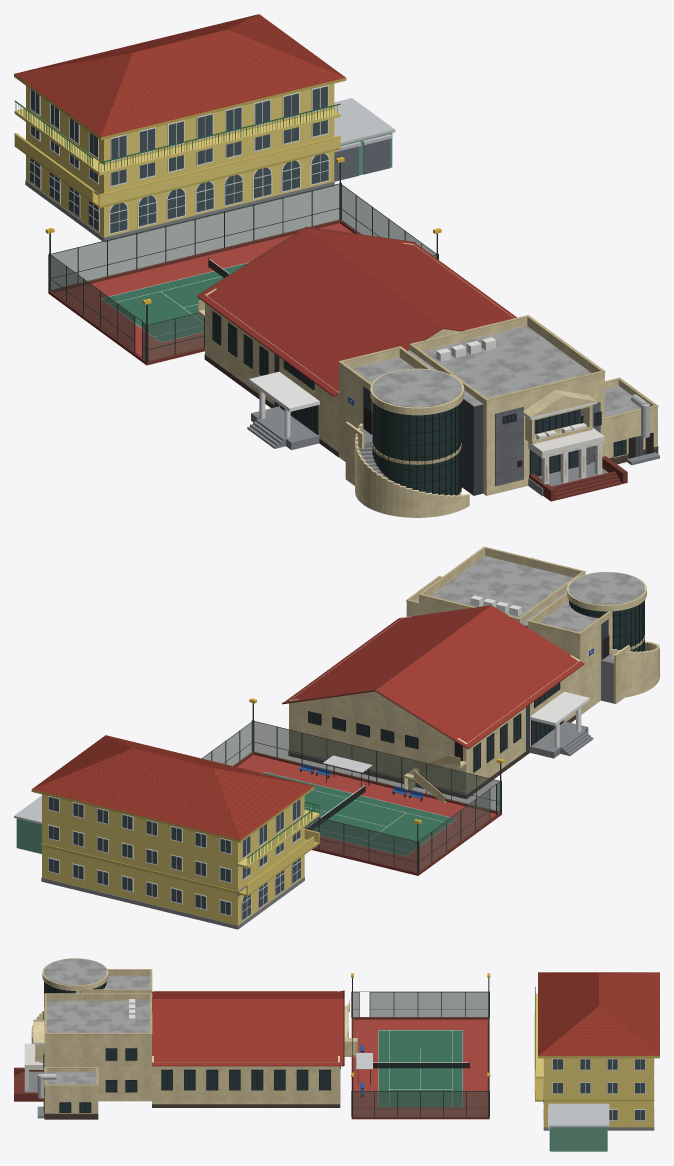
Rendered from campus_canteen_tennis_nha_an.glb.
The picture shows the model from 3 angles, top to bottom: view 1: azimuth 30°, elevation 25°; view 2: azimuth 150°, elevation 25°; view 3: azimuth 270°, elevation 25°; orthographic projection. The views are drawn at different scales.
Visible parts, largest first — view 1: NHA_AN, CANTEEN, TENNIS; view 2: NHA_AN, CANTEEN, TENNIS; view 3: NHA_AN, CANTEEN, TENNIS.
Part boxes in pixels (x1,y1,x2,y2): NHA_AN: [197, 226, 659, 517]; CANTEEN: [14, 14, 395, 241]; TENNIS: [45, 157, 441, 365]; NHA_AN: [282, 546, 659, 803]; CANTEEN: [14, 735, 319, 929]; TENNIS: [202, 698, 504, 875]; NHA_AN: [14, 958, 357, 1119]; CANTEEN: [534, 972, 659, 1151]; TENNIS: [351, 973, 490, 1119].
Bounding box in the file's own units: 41.32 × 14.55 × 84.2.
Materials: 42 (10 with a texture image).
